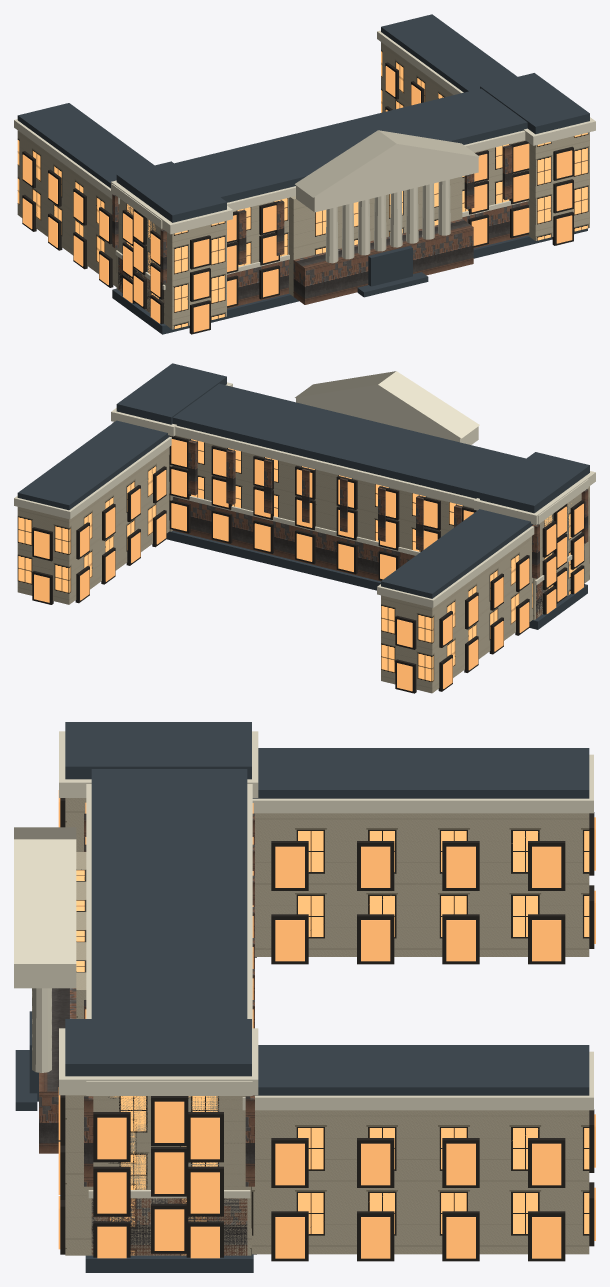
File: smolny.glb
3 views of the same model, one above another, from view 1: azimuth 30°, elevation 25°; view 2: azimuth 150°, elevation 25°; view 3: azimuth 270°, elevation 25° (orthographic). The views are drawn at different scales.
Parts seen in each view (by area): view 1: smolny; view 2: smolny; view 3: smolny.
Part boxes in pixels (x1,y1,x2,y2): smolny: (14, 14, 595, 334); smolny: (14, 363, 595, 693); smolny: (14, 722, 595, 1272).
Bounding box in the file's own units: 26.6 × 9.2 × 18.71.
6 materials, 2 textured.
